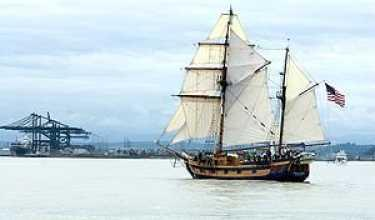fanchuan: (150, 10, 352, 181)
